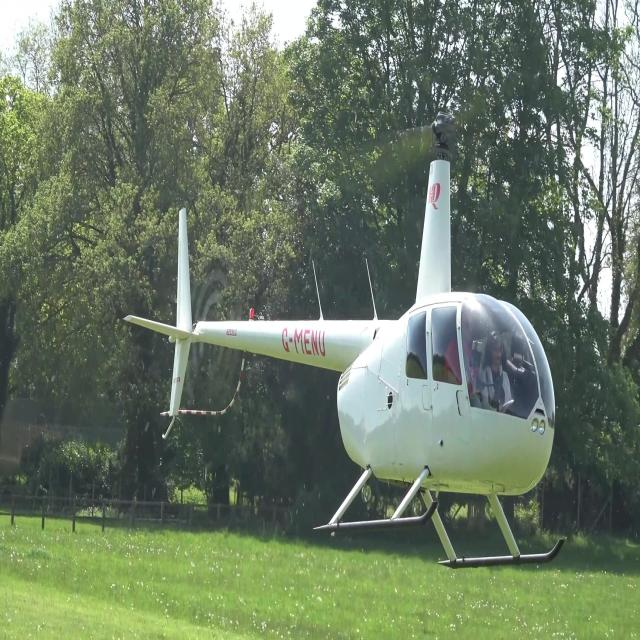CIV_HELO: (118, 150, 566, 572)
